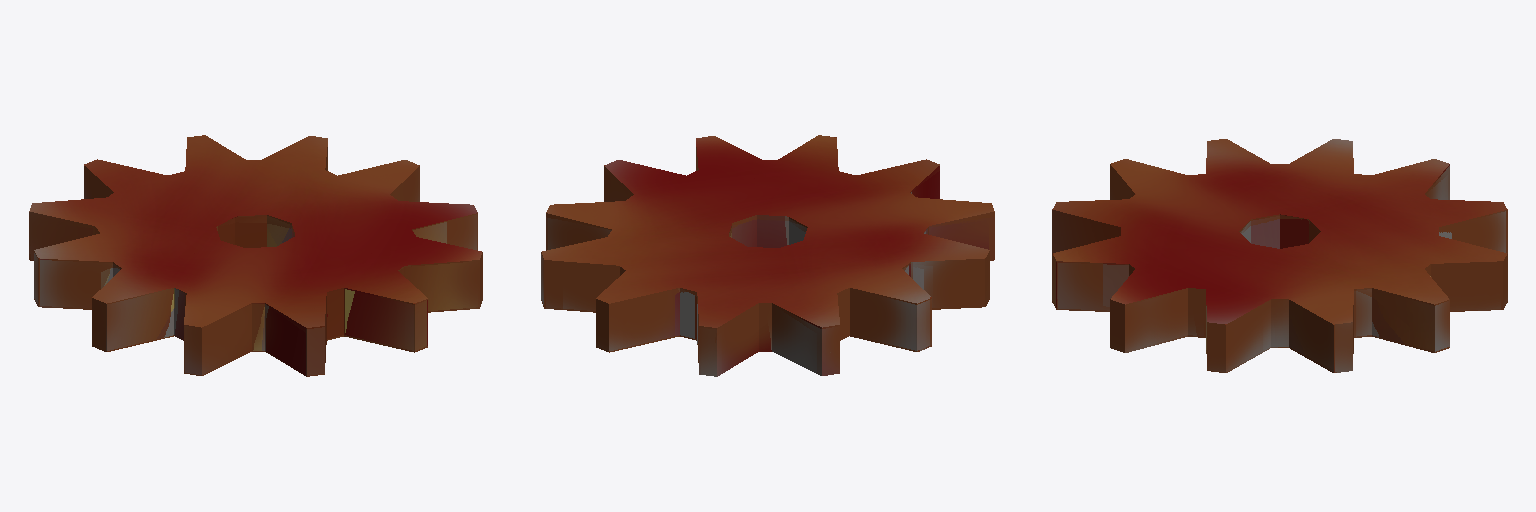
3 renders of one model, left to right at view 1: azimuth 30°, elevation 25°; view 2: azimuth 150°, elevation 25°; view 3: azimuth 270°, elevation 25°, orthographic.
Parts seen in each view (by area): view 1: 円.001; view 2: 円.001; view 3: 円.001.
Part boxes in pixels (x1,y1,x2,y2): 円.001: (29,135,482,376); 円.001: (541,135,994,376); 円.001: (1052,139,1507,372).
Size of the model in its own units: 1.8 by 0.2205 by 1.86.
Materials: 1 (1 with a texture image).